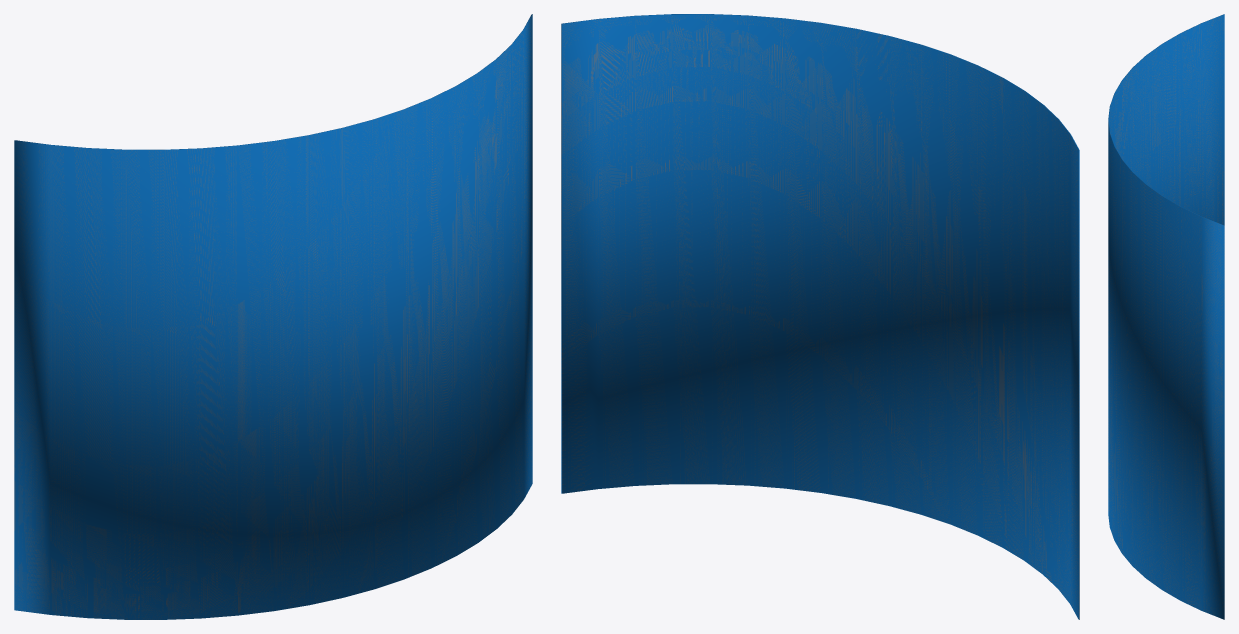
File: FrontCover.dae
3 renders of one model, left to right at view 1: azimuth 30°, elevation 25°; view 2: azimuth 150°, elevation 25°; view 3: azimuth 270°, elevation 25°, orthographic. The views are drawn at different scales.
Visible parts, largest first — view 1: SketchUp; view 2: SketchUp; view 3: SketchUp.
Part boxes in pixels (x1,y1,x2,y2): SketchUp: [14, 14, 532, 619]; SketchUp: [561, 14, 1079, 619]; SketchUp: [1108, 14, 1224, 619].
Size of the model in its own units: 23.08 by 5.36 by 20.
